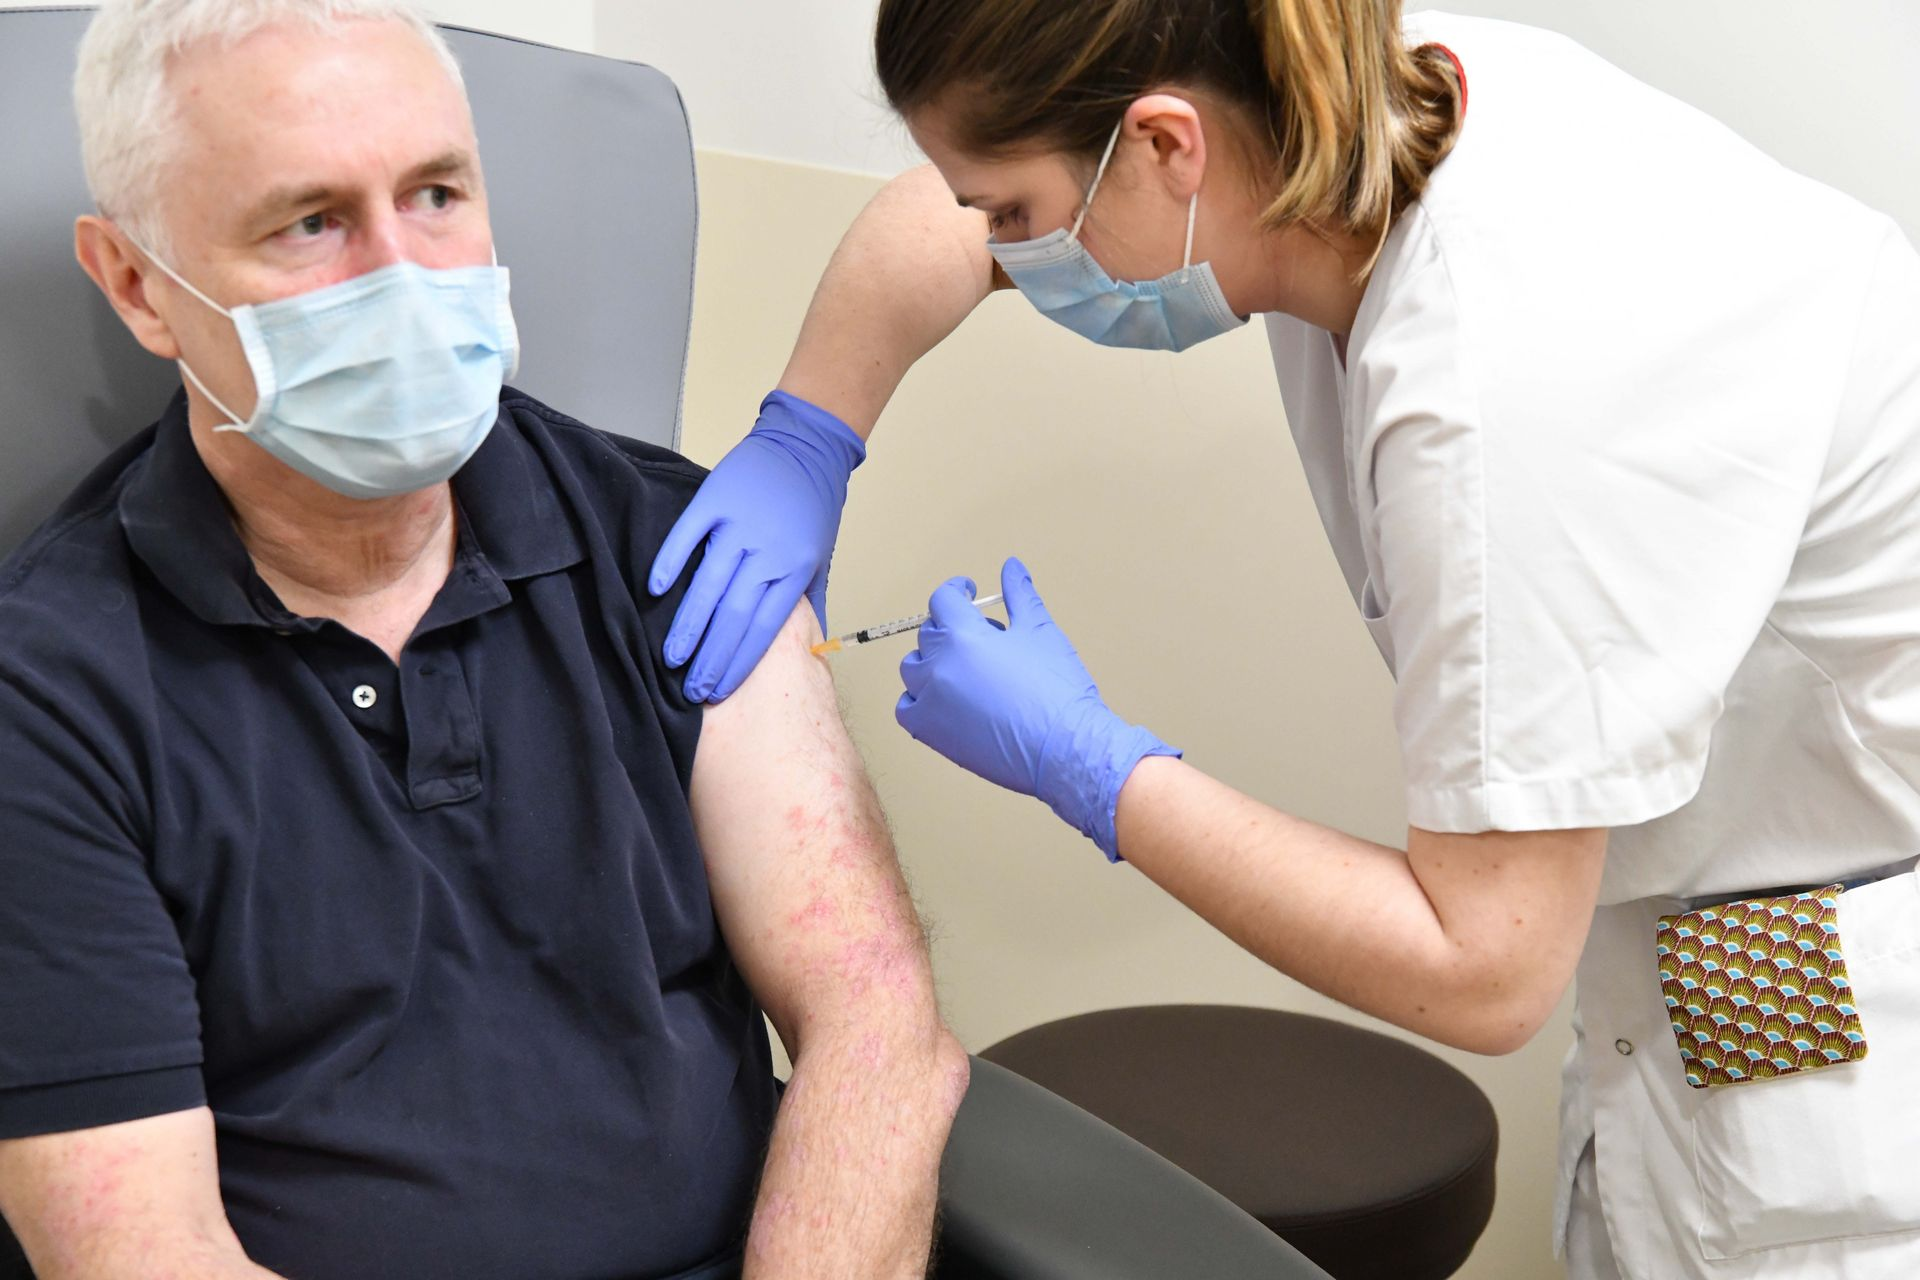with_mask: (166, 148, 533, 494), (958, 149, 1253, 353)
